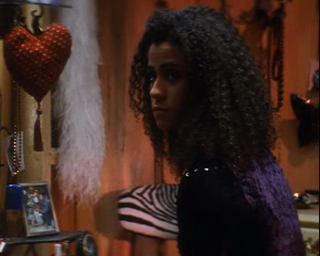face: (147, 51, 183, 125)
mcu: (1, 1, 320, 256)
person: (128, 5, 308, 256)
